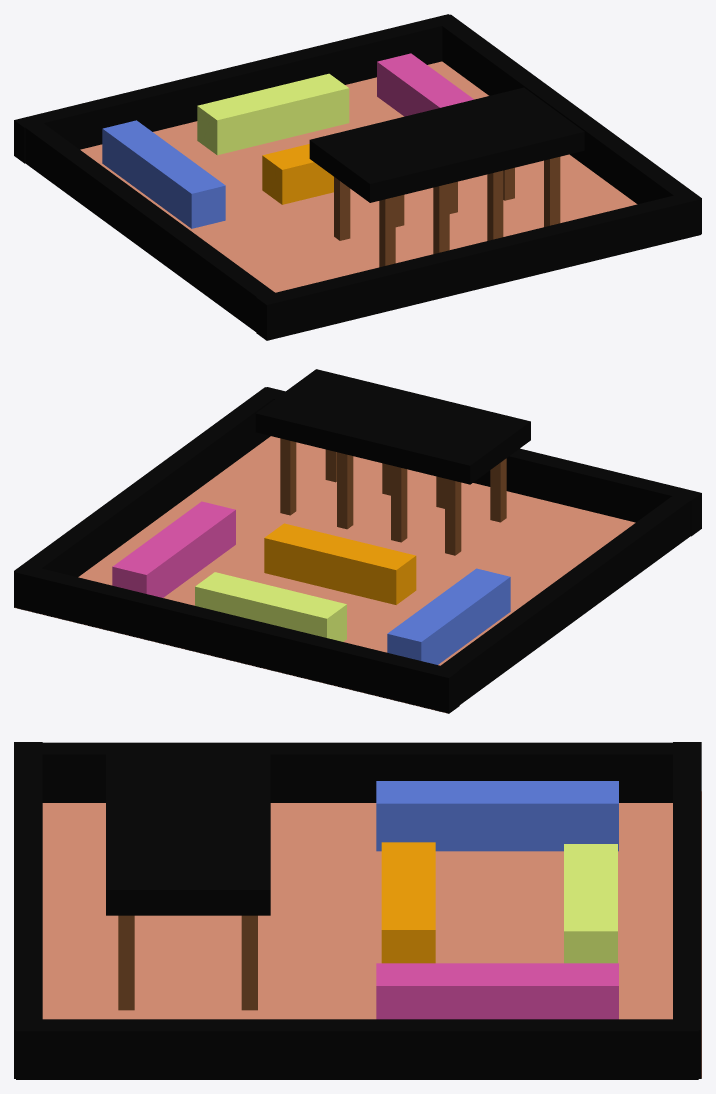
File: level3.gltf
3 views of the same model, one above another, from view 1: azimuth 30°, elevation 25°; view 2: azimuth 150°, elevation 25°; view 3: azimuth 270°, elevation 25° (orthographic). The views are drawn at different scales.
Visible parts, largest first — view 1: Sphere; view 2: Sphere; view 3: Sphere.
Part boxes in pixels (x1,y1,x2,y2): Sphere: (14, 14, 701, 340); Sphere: (14, 369, 701, 713); Sphere: (14, 742, 701, 1079).
Bounding box in the file's own units: 25.54 × 5.65 × 25.67.
